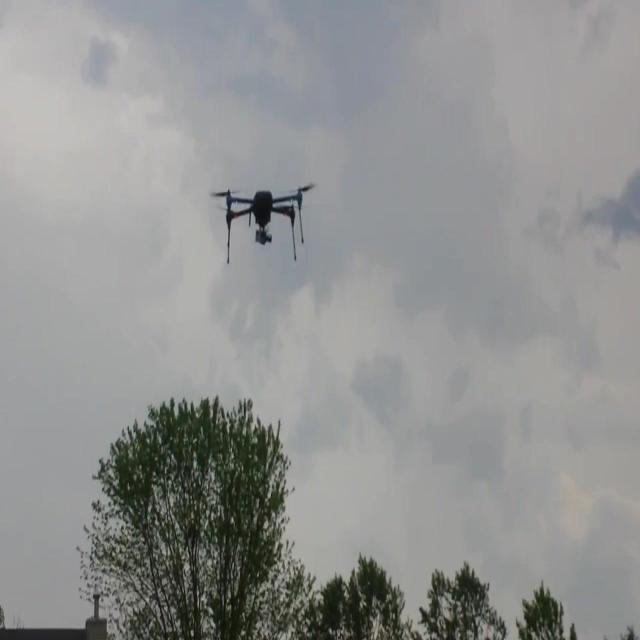drone: (212, 180, 312, 264)
